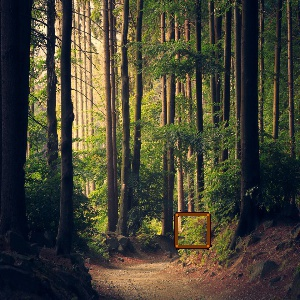square: (171, 209, 214, 251)
